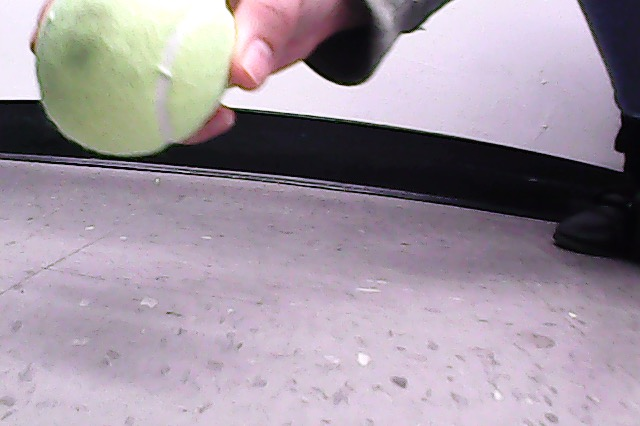ball: (37, 1, 237, 156)
